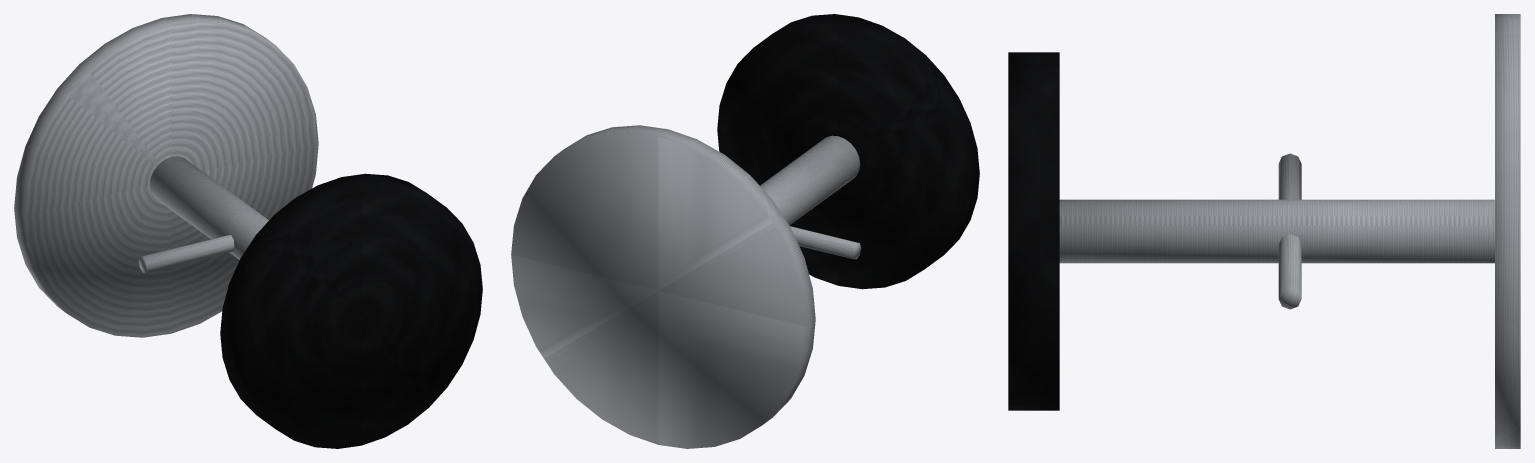
File: BAR_STOOL_BLUE_001.glb
The picture shows the model from 3 angles, left to right: view 1: azimuth 30°, elevation 25°; view 2: azimuth 150°, elevation 25°; view 3: azimuth 270°, elevation 25°; orthographic projection. The views are drawn at different scales.
Parts seen in each view (by area): view 1: base_disc_002, round_seat_000, stem_001, footrest_003; view 2: base_disc_002, round_seat_000, stem_001, footrest_003; view 3: stem_001, round_seat_000, base_disc_002, footrest_003.
Part boxes in pixels (x1,y1,x2,y2): base_disc_002: [14, 14, 318, 337]; round_seat_000: [220, 173, 482, 448]; stem_001: [149, 156, 268, 259]; footrest_003: [138, 235, 234, 272]; base_disc_002: [511, 125, 815, 448]; round_seat_000: [717, 14, 979, 289]; stem_001: [760, 135, 860, 225]; footrest_003: [790, 226, 861, 259]; stem_001: [1059, 199, 1494, 263]; round_seat_000: [1008, 52, 1059, 410]; base_disc_002: [1495, 14, 1520, 448]; footrest_003: [1278, 153, 1301, 309].
Bounding box in the file's own units: 0.68 × 0.68 × 0.8.
2 materials, 2 textured.
